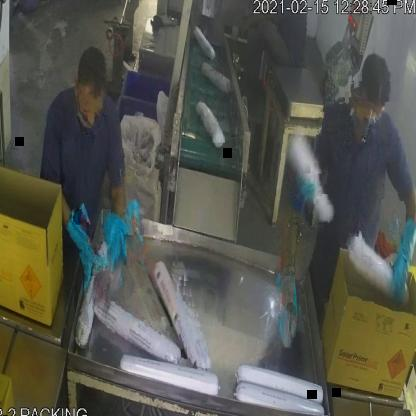glove: (377, 195, 416, 306), (56, 208, 103, 285), (100, 197, 135, 282)
no_glove: (239, 4, 280, 38)
